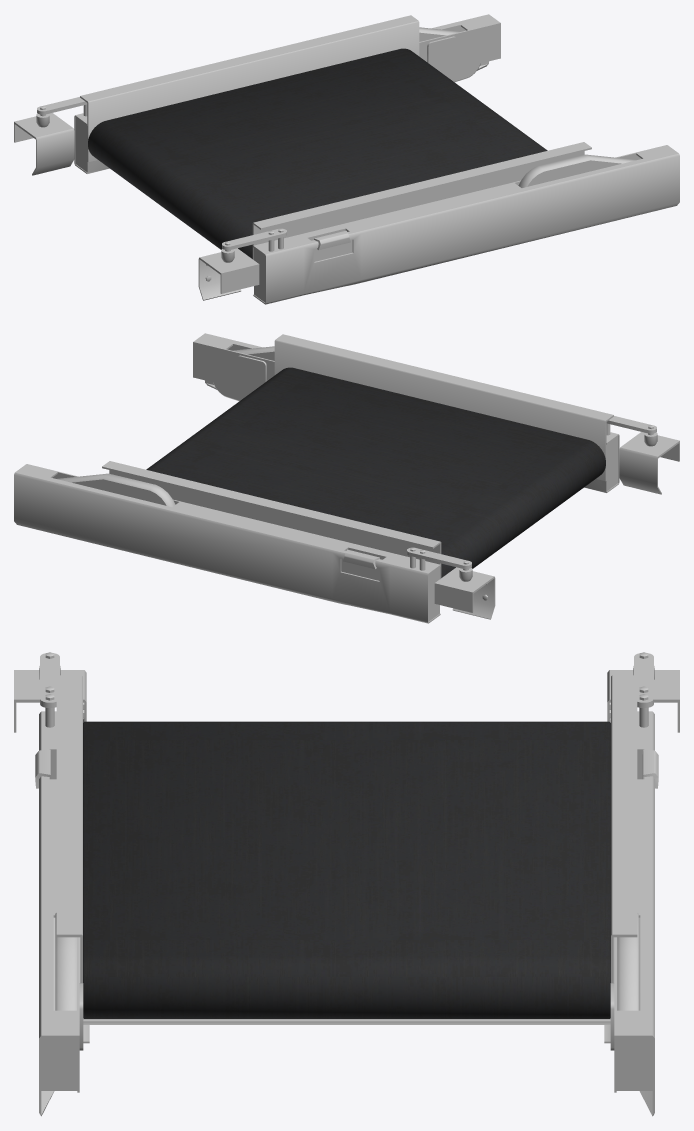
The model's file is BeltConveyorGateStruct.FBX.
3 views of the same model, one above another, from view 1: azimuth 30°, elevation 25°; view 2: azimuth 150°, elevation 25°; view 3: azimuth 270°, elevation 25° (orthographic). The views are drawn at different scales.
Visible parts, largest first — view 1: BeltConveyorGateStruct, BeltConveyor_Belt; view 2: BeltConveyorGateStruct, BeltConveyor_Belt; view 3: BeltConveyor_Belt, BeltConveyorGateStruct.
Boxes of the visible parts, x1=… form: BeltConveyorGateStruct: x1=14, y1=14, x2=679, y2=304; BeltConveyor_Belt: x1=88, y1=48, x2=547, y2=258; BeltConveyorGateStruct: x1=14, y1=333, x2=679, y2=623; BeltConveyor_Belt: x1=146, y1=367, x2=605, y2=577; BeltConveyor_Belt: x1=83, y1=721, x2=610, y2=1018; BeltConveyorGateStruct: x1=14, y1=652, x2=679, y2=1116.
Bounding box in the file's own units: 1.46 × 0.2566 × 1.12.
